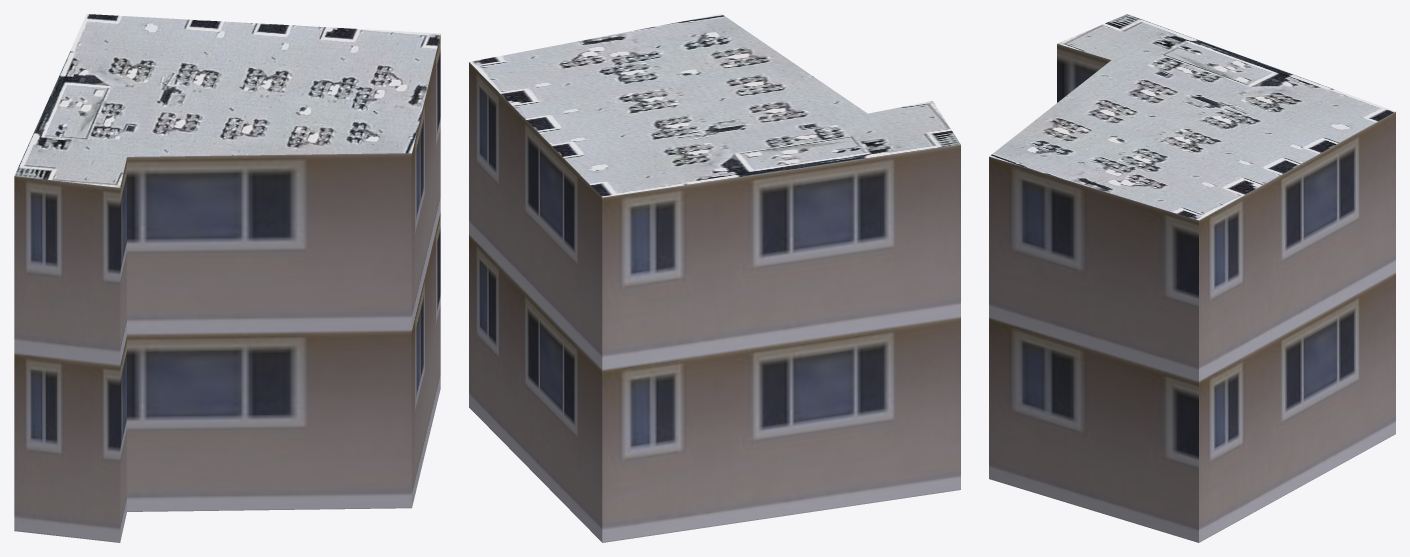
File: ResTex__3264.fbx
3 views of the same model, side by side, from view 1: azimuth 30°, elevation 25°; view 2: azimuth 150°, elevation 25°; view 3: azimuth 270°, elevation 25° (orthographic). The views are drawn at different scales.
Parts seen in each view (by area): view 1: CityEngineMaterial_21_m, CityEngineMaterial_m; view 2: CityEngineMaterial_21_m, CityEngineMaterial_m; view 3: CityEngineMaterial_21_m, CityEngineMaterial_m.
Part boxes in pixels (x1=…): CityEngineMaterial_21_m: x1=14, y1=34, x2=440, y2=542; CityEngineMaterial_m: x1=14, y1=14, x2=440, y2=187; CityEngineMaterial_21_m: x1=469, y1=62, x2=960, y2=542; CityEngineMaterial_m: x1=469, y1=14, x2=960, y2=197; CityEngineMaterial_21_m: x1=989, y1=44, x2=1395, y2=542; CityEngineMaterial_m: x1=989, y1=14, x2=1395, y2=220.
Size of the model in its own units: 8.24 by 6 by 6.86.
2 materials, 2 textured.
